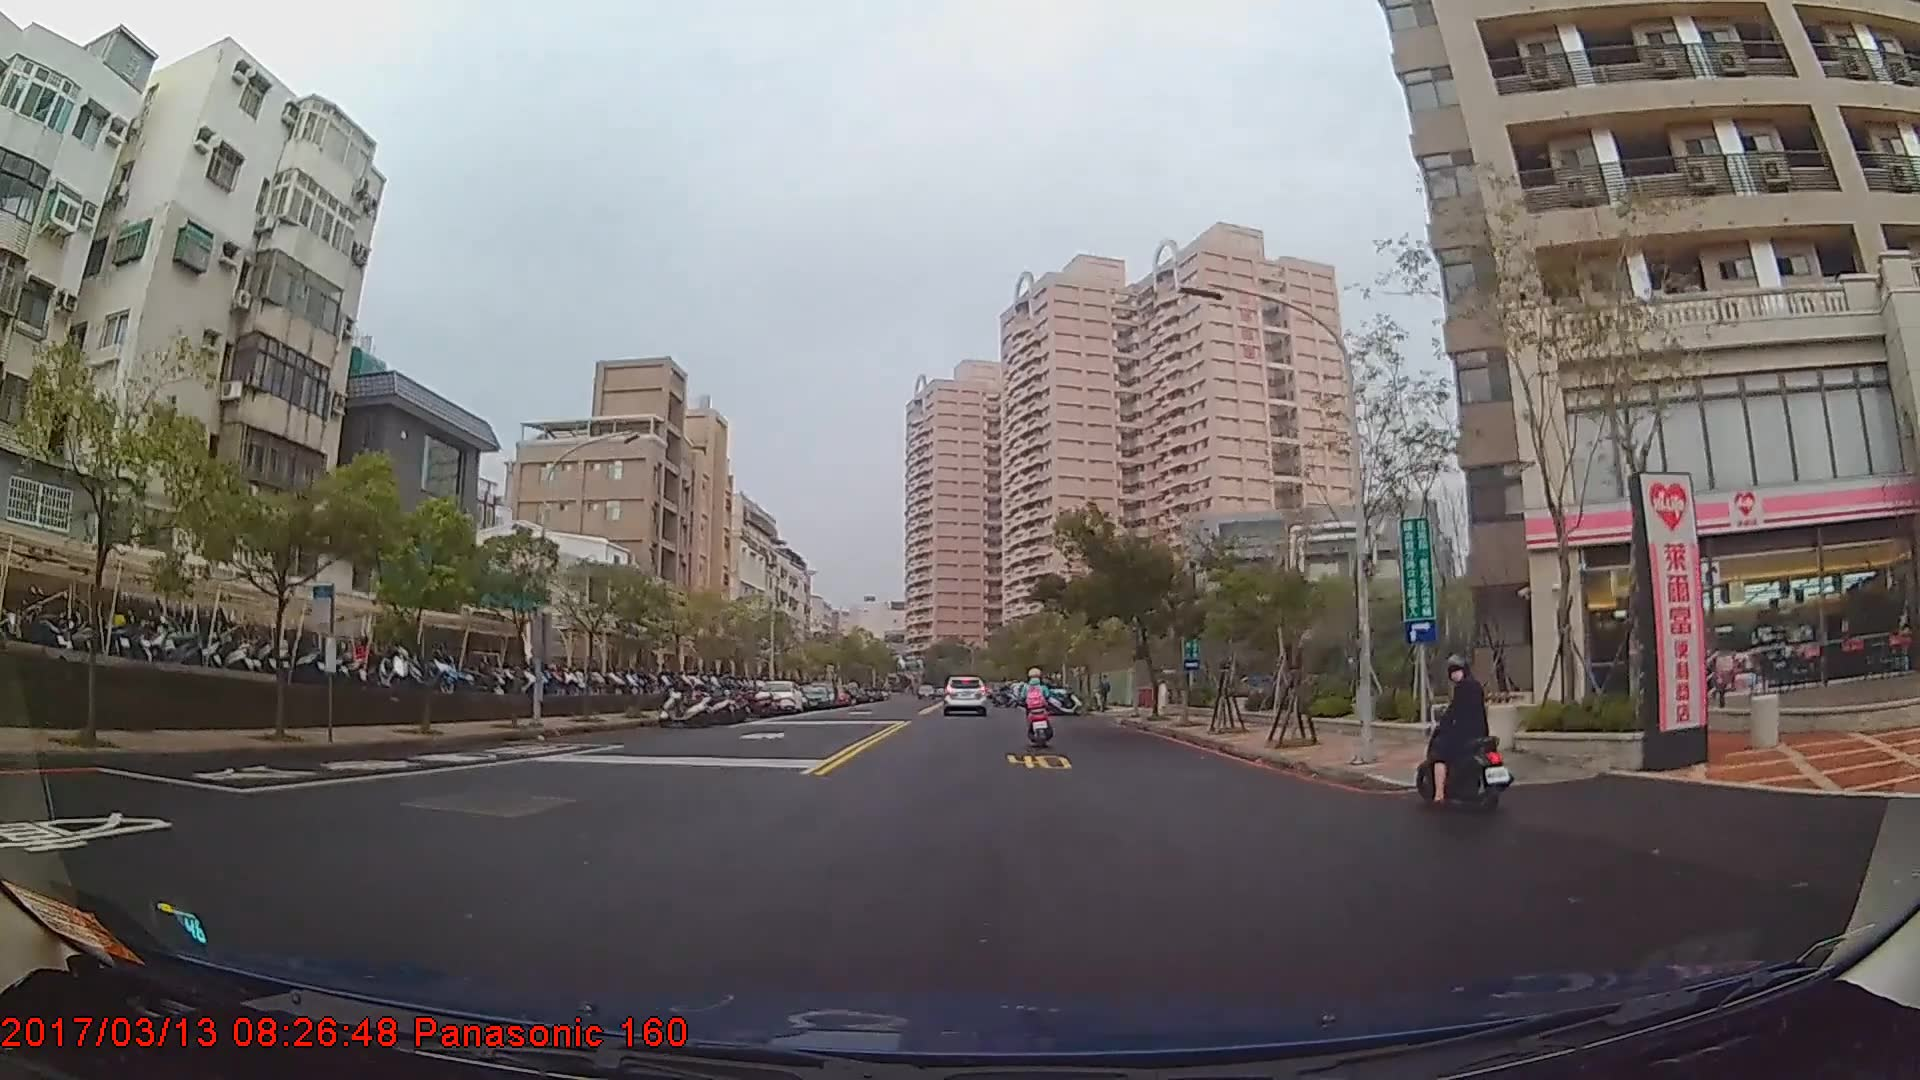rider: (1411, 657, 1520, 818), (1021, 671, 1054, 746)
vehicle: (938, 673, 989, 713), (752, 681, 804, 715)
